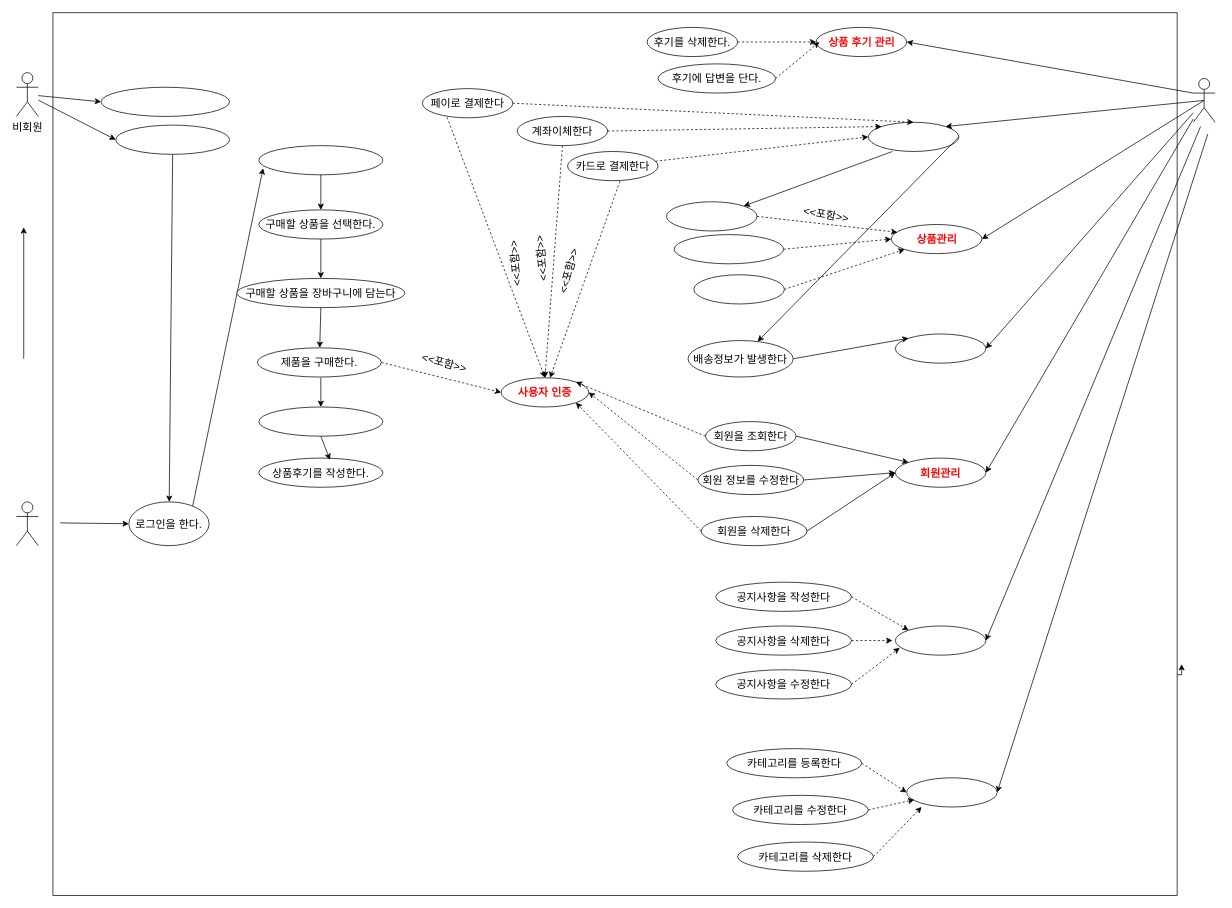
The diagram is 1232 pixels wide and 908 high, and some of its shapes have lost their labels. Here are the shapes that lost their labels. From the top down, the centre of each, then its label:
At pixel 165 101: "상품목록으로 이동한다".
At pixel 1203 100: "관리자".
At pixel 172 139: "회원가입을 한다.".
At pixel 913 136: "결제 관리".
At pixel 320 160: "상품을 검색한다.".
At pixel 711 216: "재고를 갱신한다".
At pixel 728 249: "상품 정보를 수정한다".
At pixel 738 289: "상품을 등록한다".
At pixel 940 348: "배송관리".
At pixel 320 421: "제품을 결제한다.".
At pixel 27 523: "회원".
At pixel 940 640: "공지사항관리".
At pixel 951 792: "카테고리관리".
